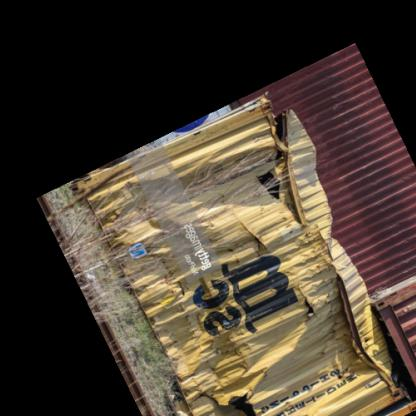Damage: (237, 100, 312, 222), (323, 250, 379, 412), (184, 370, 282, 414), (214, 276, 260, 359), (107, 191, 160, 248), (160, 245, 186, 334), (296, 272, 320, 334)
